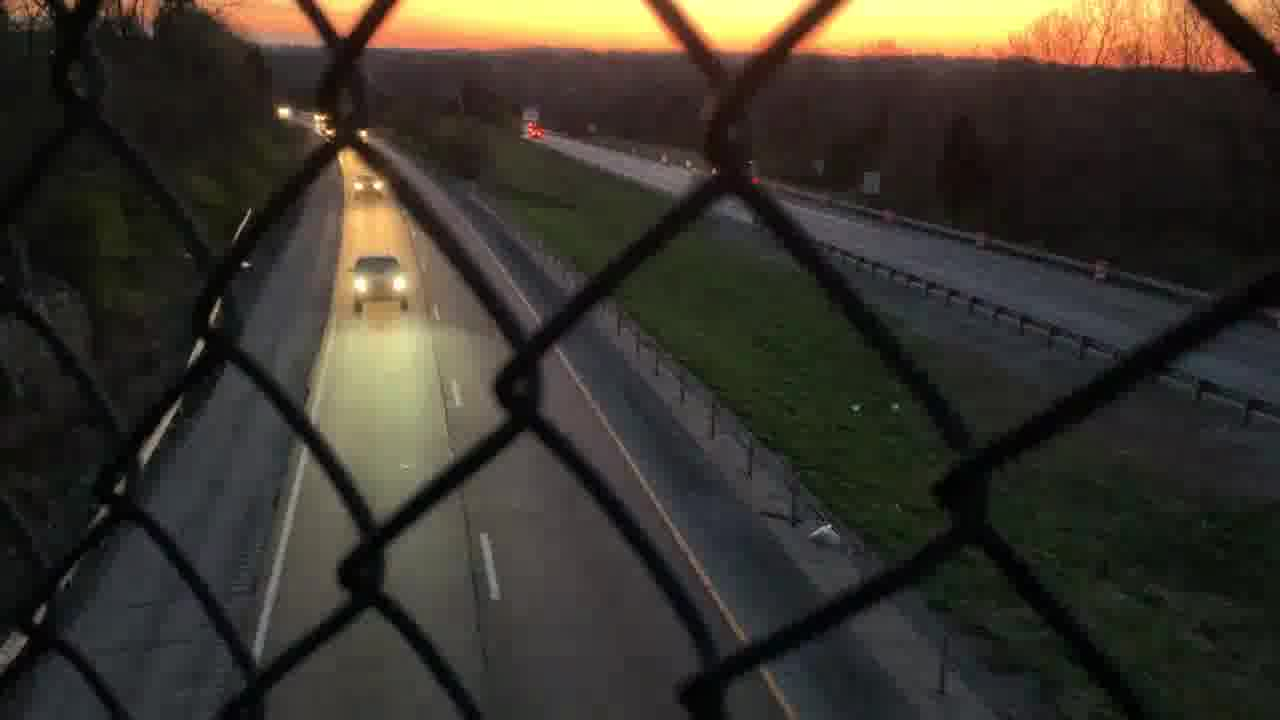largeCar: (344, 251, 415, 313), (352, 171, 385, 202)
